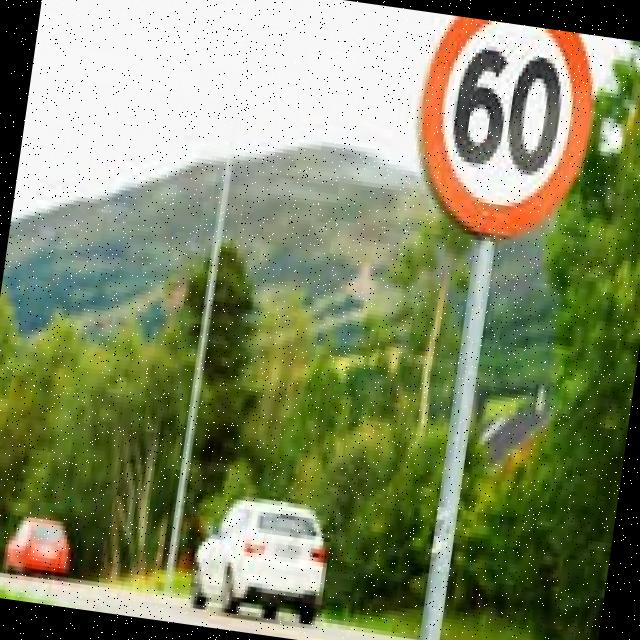speed_limit_60: (394, 12, 611, 250)
